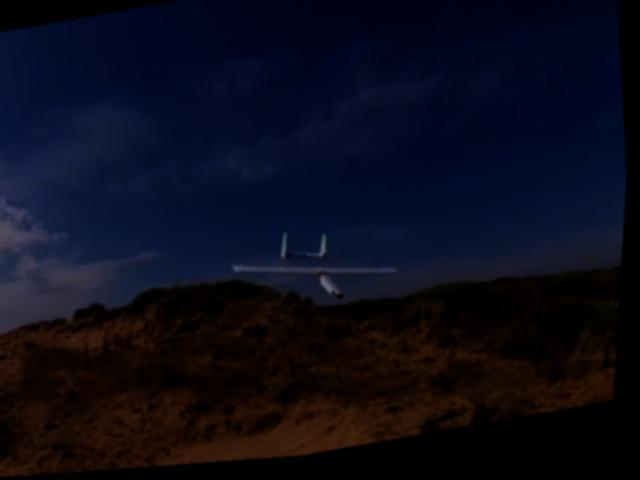uav: (229, 219, 409, 326)
